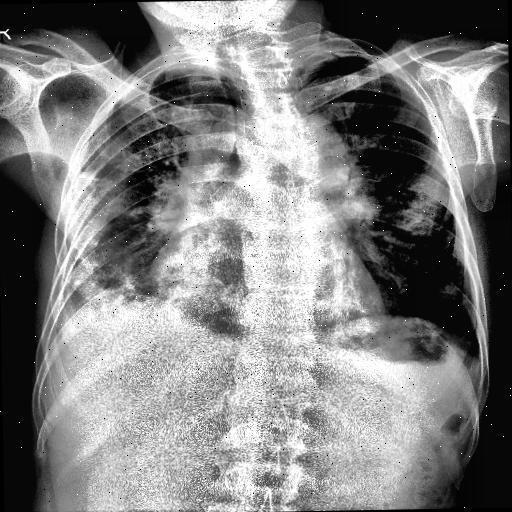0- Aortic enlargement: (264, 112, 352, 182), (278, 117, 352, 187)
10- Pleural effusion: (54, 256, 242, 352), (46, 280, 148, 350), (54, 273, 94, 337)
11- Pleural thickening: (296, 49, 384, 84), (284, 48, 390, 74), (162, 62, 240, 78), (168, 58, 226, 75)
3- Cardiomegaly: (148, 231, 386, 340), (147, 250, 388, 332)
4- Consolidation: (66, 129, 150, 307)
6- Infiltration: (60, 98, 240, 318), (330, 147, 468, 326), (60, 137, 170, 310), (334, 158, 458, 306), (348, 168, 464, 303)
7- Lung Opacity: (60, 137, 170, 310), (334, 158, 458, 306), (175, 130, 233, 231)
